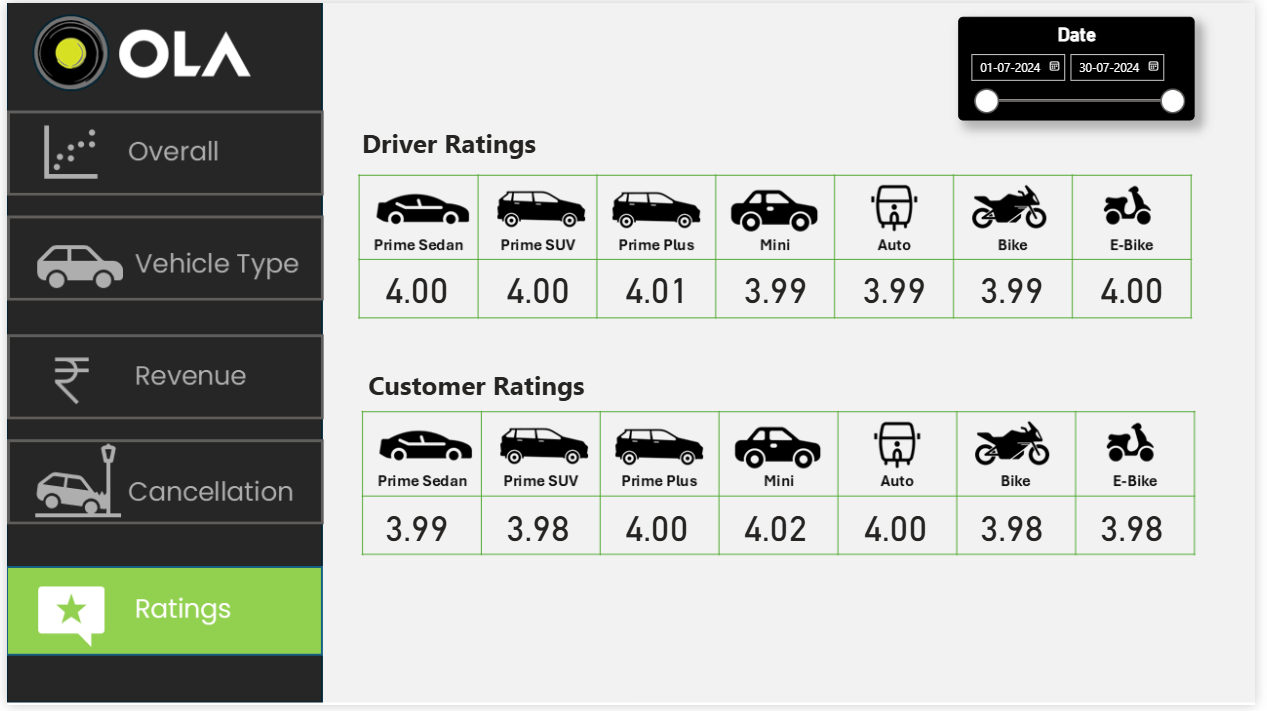

The page's visual inventory and layout, read from the dashboard file:
{"tool":"powerbi","page":{"name":"Ratings","canvas":[1280,720],"ordinal":4},"visuals":[{"type":"actionButton","box":[0,217.5,325,87.5],"z":0},{"type":"actionButton","box":[0,340,325,87.5],"z":1000},{"type":"actionButton","box":[0,447.5,325,87.5],"z":2000},{"type":"actionButton","box":[0,110,325,87.5],"z":3000},{"type":"card","fields":{"Values":["Avg(July.Driver_Ratings)"]},"box":[365.7,261.4,110,60],"z":4000},{"type":"card","fields":{"Values":["Avg(July.Driver_Ratings)"]},"box":[490,261.4,110,60],"z":5000},{"type":"card","fields":{"Values":["Avg(July.Driver_Ratings)"]},"box":[611.4,261.4,110,60],"z":6000},{"type":"card","fields":{"Values":["Avg(July.Driver_Ratings)"]},"box":[732.9,261.4,110,60],"z":7000},{"type":"card","fields":{"Values":["Avg(July.Driver_Ratings)"]},"box":[855.7,261.4,110,60],"z":8000},{"type":"card","fields":{"Values":["Avg(July.Driver_Ratings)"]},"box":[975.7,261.4,110,60],"z":9000},{"type":"card","fields":{"Values":["Avg(July.Driver_Ratings)"]},"box":[1098.6,261.4,110,60],"z":10000},{"type":"textbox","box":[359.4,120.6,205.3,51.8],"z":11000},{"type":"textbox","box":[366,368,245,51],"z":12000},{"type":"card","fields":{"Values":["Avg(July.Customer_Rating)"]},"box":[366,506,110,60],"z":12001},{"type":"card","fields":{"Values":["Avg(July.Customer_Rating)"]},"box":[490,506,110,60],"z":12002},{"type":"card","fields":{"Values":["Avg(July.Customer_Rating)"]},"box":[611,506,110,60],"z":12003},{"type":"card","fields":{"Values":["Avg(July.Customer_Rating)"]},"box":[733,506,110,60],"z":12004},{"type":"card","fields":{"Values":["Avg(July.Customer_Rating)"]},"box":[856,506,110,60],"z":12005},{"type":"card","fields":{"Values":["Avg(July.Customer_Rating)"]},"box":[976,506,110,60],"z":12006},{"type":"card","fields":{"Values":["Avg(July.Customer_Rating)"]},"box":[1099,506,110,60],"z":12007},{"type":"slicer","title":"Date","fields":{"Values":["July.Date"]},"box":[976,14,242,106],"z":12008}]}

Visuals, with their boxes in screenshot pixels (x1, y1, x2, y2), scaled from the page's 1280x720 canvas onto the 1267x711 screenshot:
actionButton: pyautogui.locateOnScreen(0, 215, 322, 301)
actionButton: pyautogui.locateOnScreen(0, 336, 322, 422)
actionButton: pyautogui.locateOnScreen(0, 442, 322, 528)
actionButton: pyautogui.locateOnScreen(0, 109, 322, 195)
card - Avg(July.Driver_Ratings): pyautogui.locateOnScreen(362, 258, 471, 317)
card - Avg(July.Driver_Ratings): pyautogui.locateOnScreen(485, 258, 594, 317)
card - Avg(July.Driver_Ratings): pyautogui.locateOnScreen(605, 258, 714, 317)
card - Avg(July.Driver_Ratings): pyautogui.locateOnScreen(725, 258, 834, 317)
card - Avg(July.Driver_Ratings): pyautogui.locateOnScreen(847, 258, 956, 317)
card - Avg(July.Driver_Ratings): pyautogui.locateOnScreen(966, 258, 1075, 317)
card - Avg(July.Driver_Ratings): pyautogui.locateOnScreen(1087, 258, 1196, 317)
textbox: pyautogui.locateOnScreen(356, 119, 559, 170)
textbox: pyautogui.locateOnScreen(362, 363, 605, 414)
card - Avg(July.Customer_Rating): pyautogui.locateOnScreen(362, 500, 471, 559)
card - Avg(July.Customer_Rating): pyautogui.locateOnScreen(485, 500, 594, 559)
card - Avg(July.Customer_Rating): pyautogui.locateOnScreen(605, 500, 714, 559)
card - Avg(July.Customer_Rating): pyautogui.locateOnScreen(726, 500, 834, 559)
card - Avg(July.Customer_Rating): pyautogui.locateOnScreen(847, 500, 956, 559)
card - Avg(July.Customer_Rating): pyautogui.locateOnScreen(966, 500, 1075, 559)
card - Avg(July.Customer_Rating): pyautogui.locateOnScreen(1088, 500, 1197, 559)
"Date" slicer: pyautogui.locateOnScreen(966, 14, 1206, 118)
